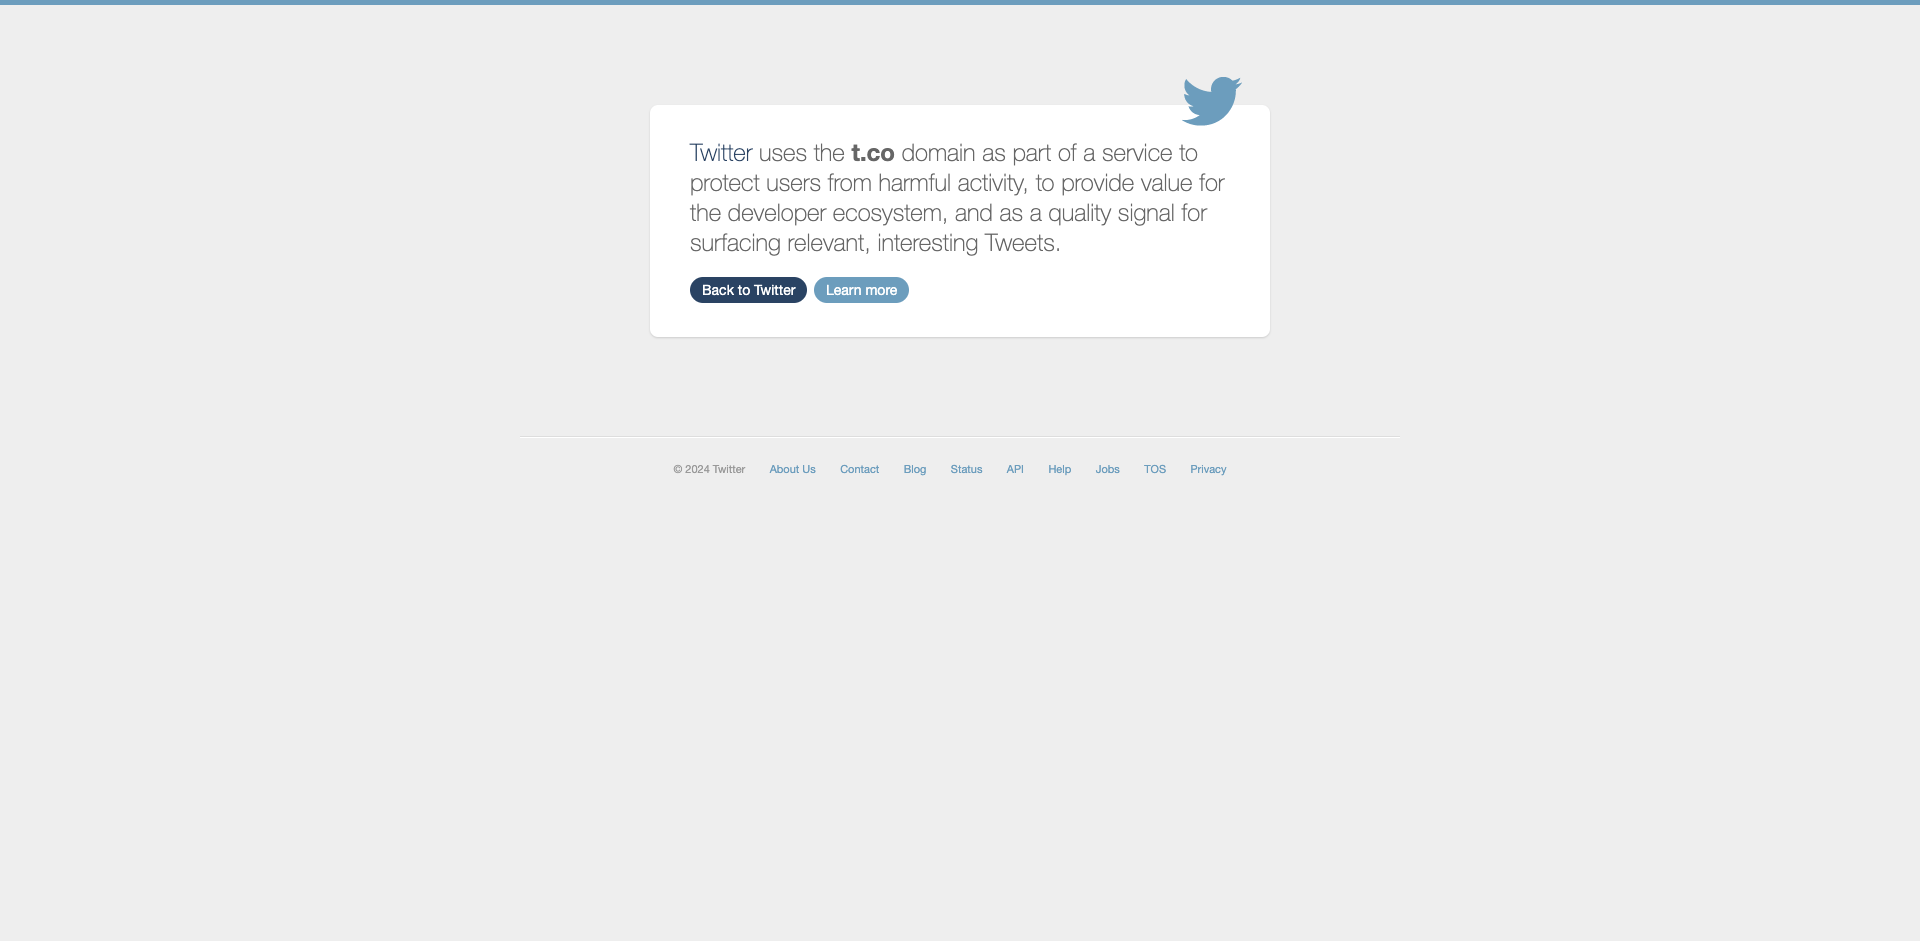link: (1182, 77, 1242, 132), (691, 277, 807, 303), (814, 277, 910, 303), (691, 138, 752, 165), (770, 463, 816, 475), (840, 463, 879, 475), (1190, 463, 1227, 475), (950, 463, 982, 475), (904, 463, 927, 475), (1048, 463, 1071, 475), (1096, 463, 1119, 475), (1144, 463, 1166, 475), (1007, 463, 1024, 475)
